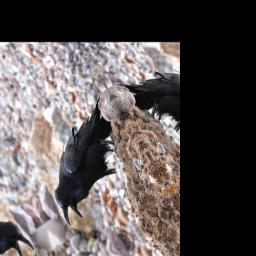Crow: (21, 95, 149, 227)
